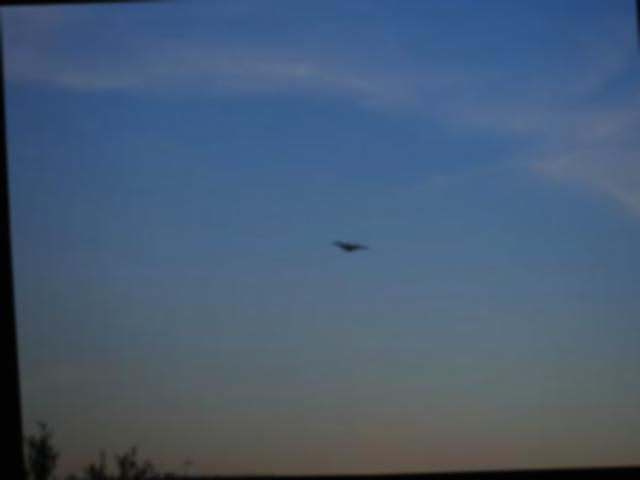uav: (324, 228, 371, 264)
